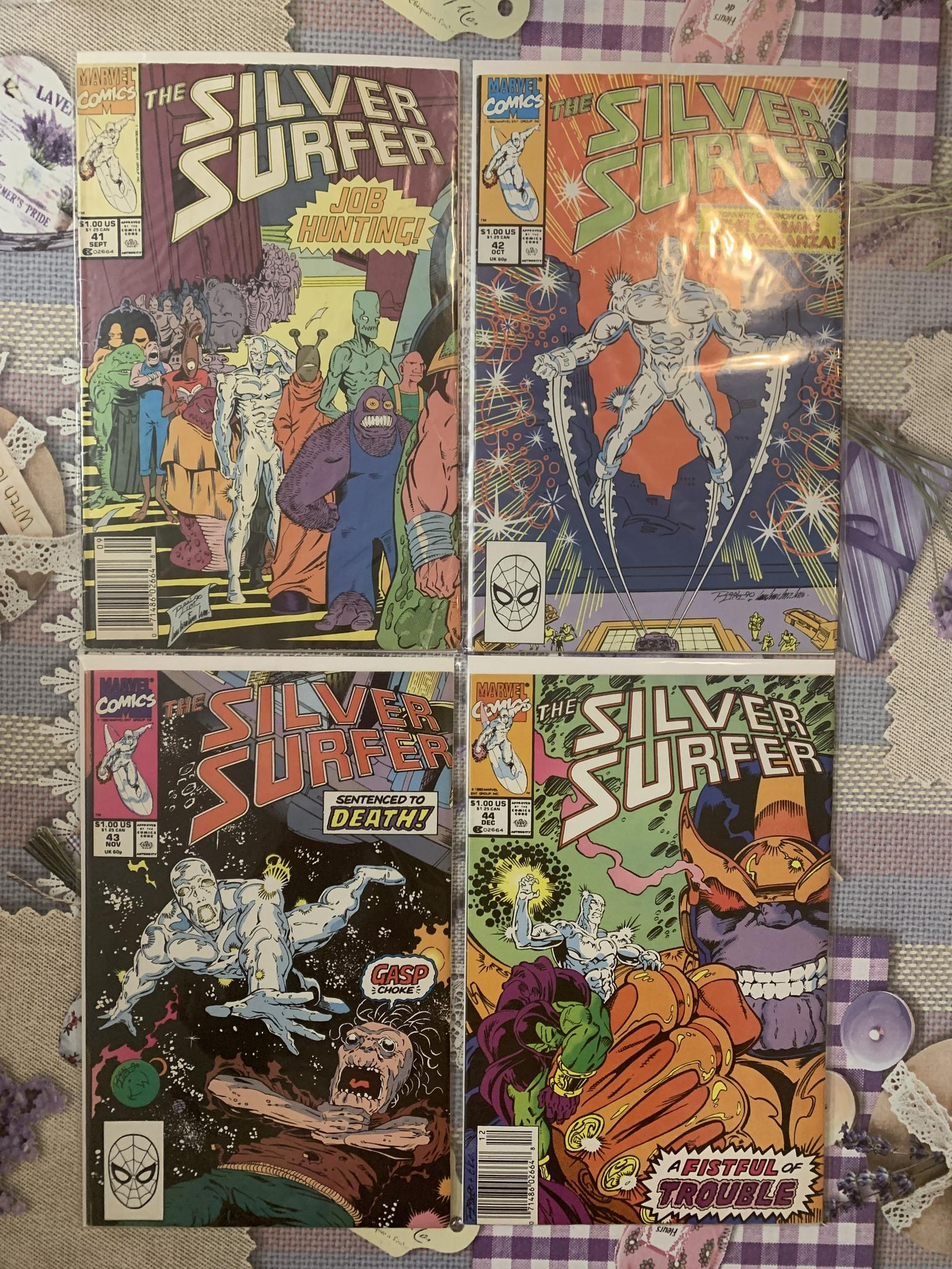comic: (76, 54, 460, 649), (470, 63, 846, 654), (81, 655, 453, 1227), (464, 657, 833, 1227)
